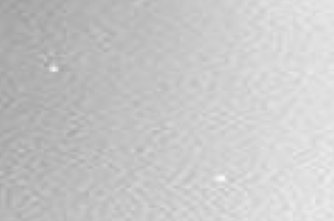Target: (50, 68, 224, 180)
